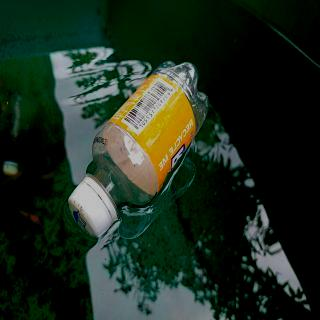bottle: (66, 56, 210, 242)
